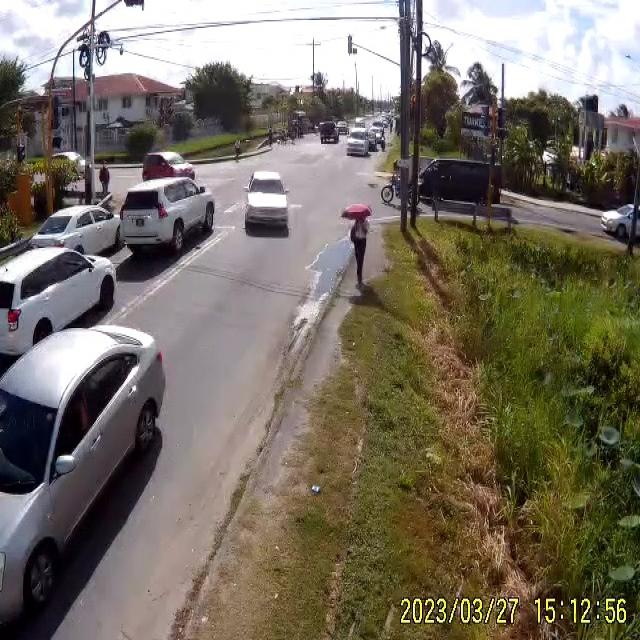car: (0, 317, 167, 637), (0, 241, 119, 379), (118, 178, 216, 255), (416, 155, 502, 215), (31, 204, 124, 256), (243, 170, 289, 234), (142, 151, 195, 184), (601, 202, 639, 244), (319, 122, 339, 144), (345, 136, 367, 155)
motorbike: (381, 162, 408, 206)
person: (342, 204, 372, 289), (98, 162, 109, 195)
